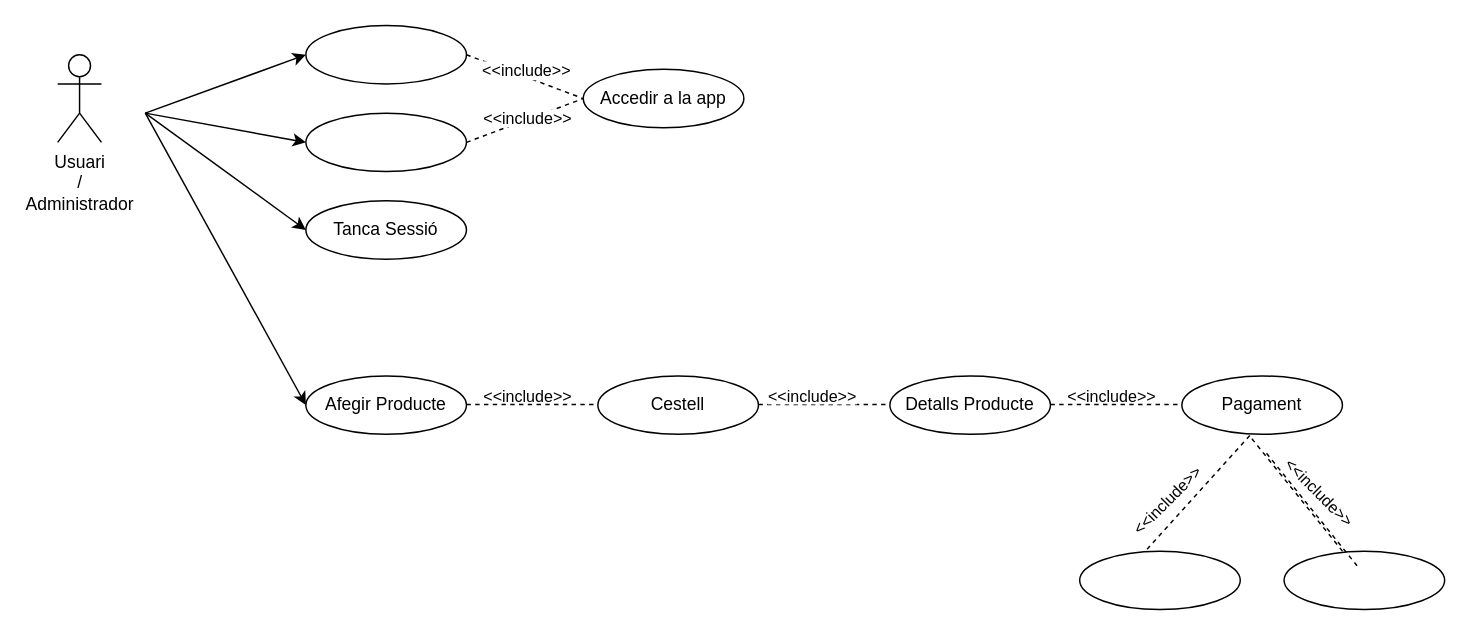
Image size: 1470x635. Some labels were removed from this diagram. The shapes that lost their labels are listed below. From the top down, each one's centre as x and y in pixels, then its label:
[385,54]: Crear compte
[385,142]: Inicia Sessió
[1159,580]: Historial
[1364,580]: Estat Producte
